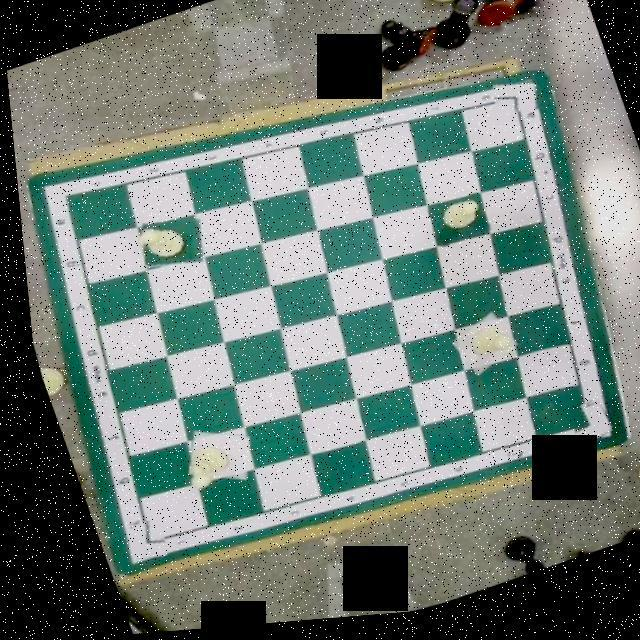chess-table-corners: (553, 406, 607, 458), (484, 81, 540, 129), (114, 516, 161, 566), (40, 179, 89, 219)
